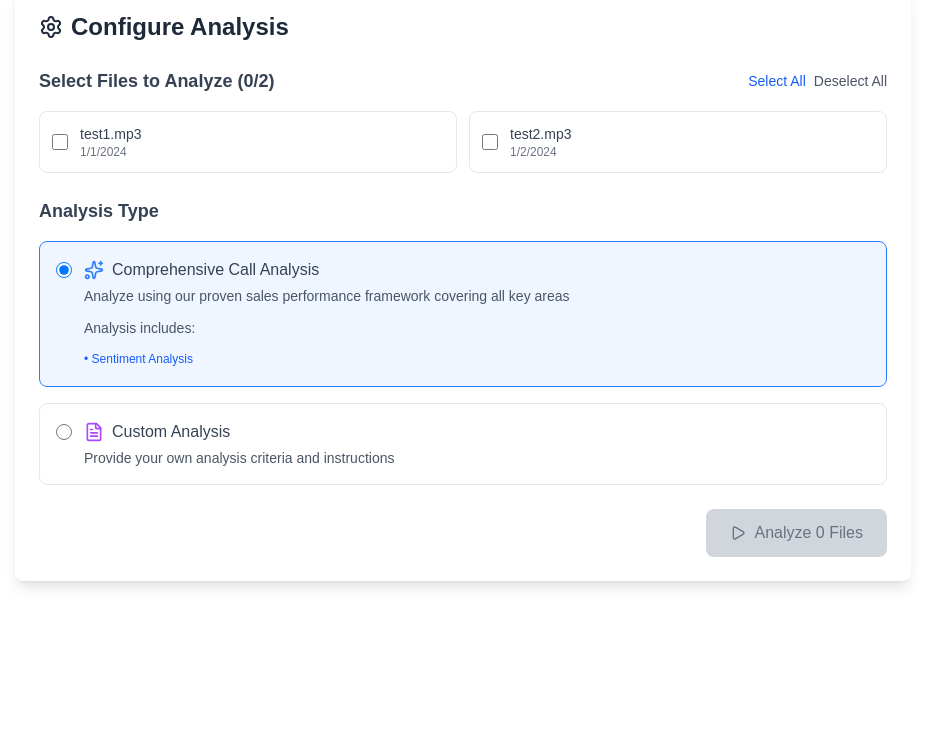
Scenario: AnalysisConfig › should handle analysis type change
Click the radio button labelled "Custom Analysis": point(64, 432) [56,424,72,440]
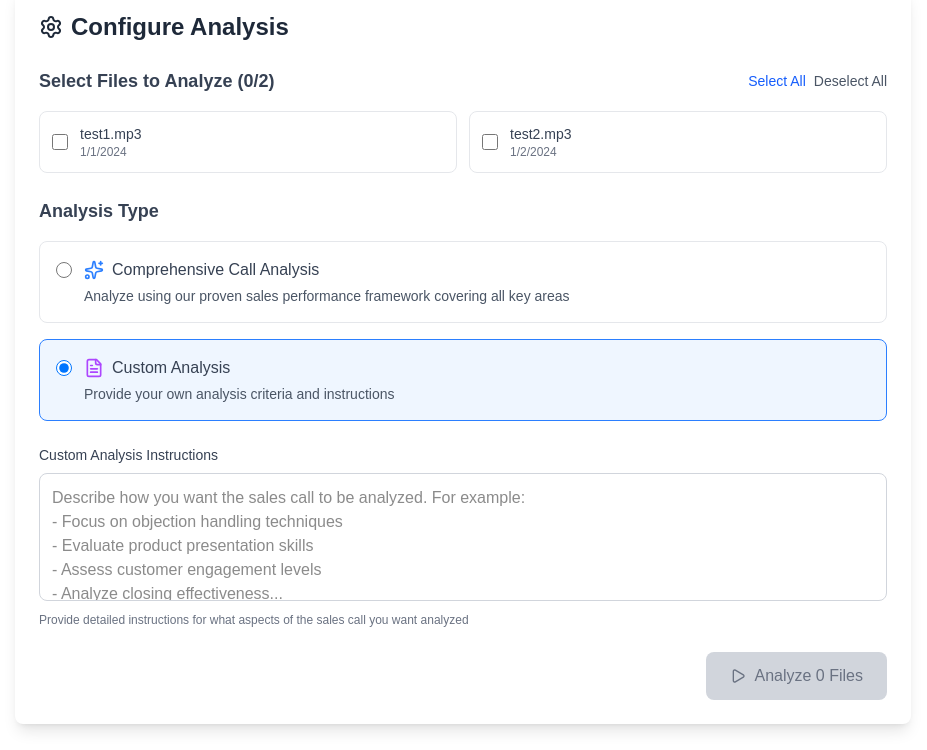
Expected: the radio button labelled "Custom Analysis" is checked, [56,360,72,376]
Expected: the text box with placeholder "Describe how you want the sales call to be analyzed" is shown, [39,473,887,601]
